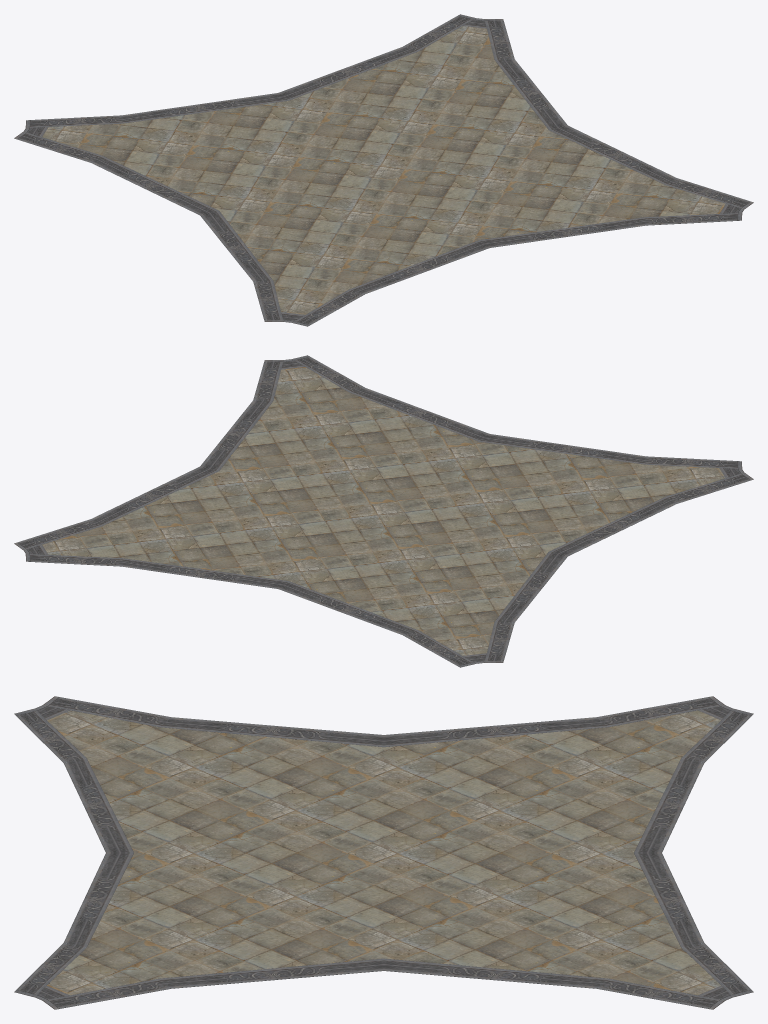
The model's file is Floor6.fbx.
3 views of the same model, one above another, from view 1: azimuth 30°, elevation 25°; view 2: azimuth 150°, elevation 25°; view 3: azimuth 270°, elevation 25° (orthographic). The views are drawn at different scales.
Parts seen in each view (by area): view 1: LV_Nigraturis_Lower_BossFloor01_HSH; view 2: LV_Nigraturis_Lower_BossFloor01_HSH; view 3: LV_Nigraturis_Lower_BossFloor01_HSH.
Boxes of the visible parts, x1,y1,x2,y2 form: LV_Nigraturis_Lower_BossFloor01_HSH: [14, 14, 753, 326]; LV_Nigraturis_Lower_BossFloor01_HSH: [14, 355, 753, 667]; LV_Nigraturis_Lower_BossFloor01_HSH: [14, 696, 753, 1009].
Bounding box in the file's own units: 1376 × 1.68 × 1373.
Materials: 3 (3 with a texture image).
